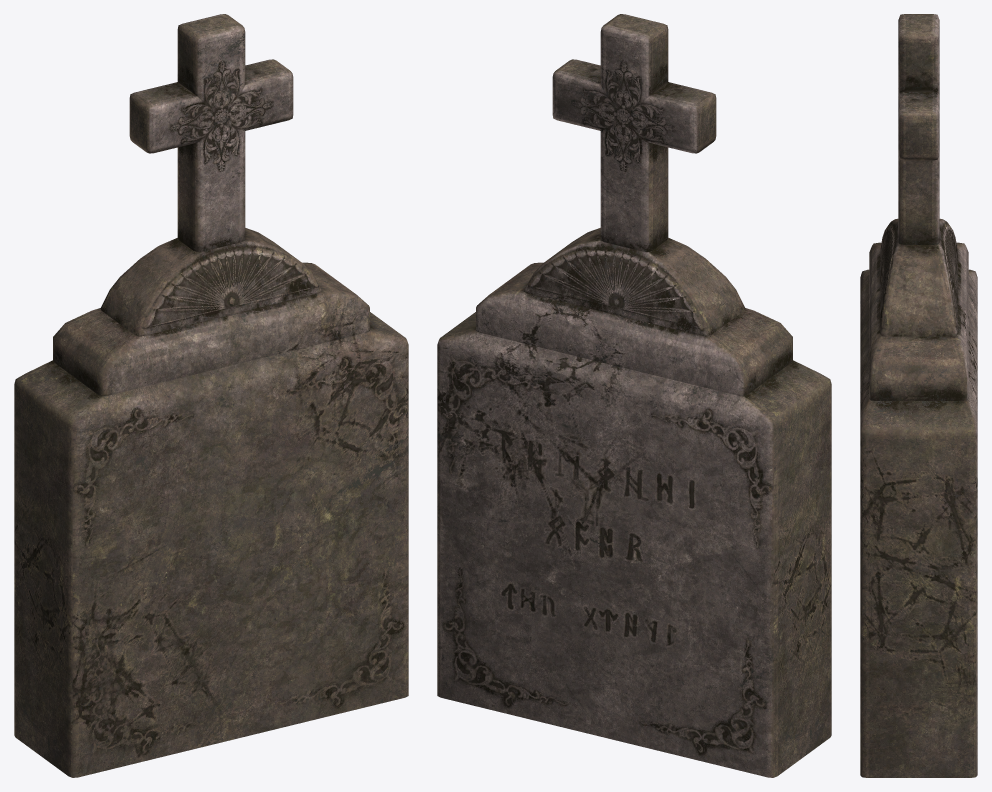
File: SM_gravestone_26.fbx
The picture shows the model from 3 angles, left to right: view 1: azimuth 30°, elevation 25°; view 2: azimuth 150°, elevation 25°; view 3: azimuth 270°, elevation 25°; orthographic projection. The views are drawn at different scales.
Visible parts, largest first — view 1: SM_gravestone_026; view 2: SM_gravestone_026; view 3: SM_gravestone_026.
Part boxes in pixels (bbox=[...]): SM_gravestone_026: bbox=[14, 14, 408, 777]; SM_gravestone_026: bbox=[437, 14, 831, 777]; SM_gravestone_026: bbox=[860, 14, 977, 777].
Size of the model in its own units: 49.8 by 96.97 by 15.33.
